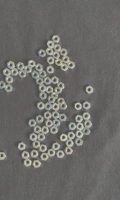nut: (21, 151, 30, 160), (30, 150, 39, 159), (37, 133, 46, 142), (18, 142, 26, 151), (40, 153, 49, 161), (47, 149, 56, 157), (56, 151, 65, 159), (65, 147, 74, 155), (67, 132, 76, 140), (75, 131, 84, 139), (75, 115, 84, 123), (28, 120, 37, 128), (36, 115, 44, 124), (7, 61, 15, 70), (18, 70, 27, 78), (24, 65, 32, 74), (51, 76, 59, 85), (38, 49, 46, 58), (24, 159, 32, 167), (33, 161, 41, 169), (39, 145, 47, 153), (33, 141, 41, 149), (52, 143, 60, 151), (75, 139, 83, 147), (60, 134, 68, 142), (83, 128, 91, 136), (69, 123, 77, 131), (77, 123, 85, 131), (83, 113, 91, 121), (83, 102, 91, 110), (86, 86, 94, 94), (30, 134, 38, 142), (34, 126, 42, 134), (45, 120, 53, 128), (53, 119, 61, 127), (44, 112, 52, 120), (52, 111, 60, 119), (59, 114, 67, 122), (37, 102, 45, 110), (52, 103, 60, 111), (39, 92, 47, 100), (55, 86, 63, 94), (57, 82, 65, 90), (46, 86, 54, 94), (36, 77, 44, 85), (5, 85, 13, 93), (5, 76, 13, 84), (3, 69, 11, 77), (11, 68, 19, 76), (28, 60, 36, 68), (44, 77, 52, 85), (39, 70, 47, 78), (46, 66, 54, 74), (47, 57, 55, 65), (55, 59, 63, 67), (68, 61, 76, 69), (60, 48, 68, 56), (46, 48, 54, 56), (54, 44, 62, 52), (52, 35, 60, 43), (84, 121, 93, 128), (42, 126, 49, 135), (51, 126, 58, 135), (66, 140, 74, 147), (75, 103, 82, 111), (45, 103, 52, 111), (60, 103, 68, 110), (48, 96, 56, 103), (39, 85, 46, 93), (17, 63, 25, 70), (32, 71, 39, 79), (36, 64, 43, 72), (61, 64, 69, 71), (63, 56, 70, 64), (53, 51, 60, 59), (47, 41, 55, 48), (0, 152, 6, 161), (58, 98, 65, 105), (51, 93, 58, 100), (0, 81, 6, 89)
